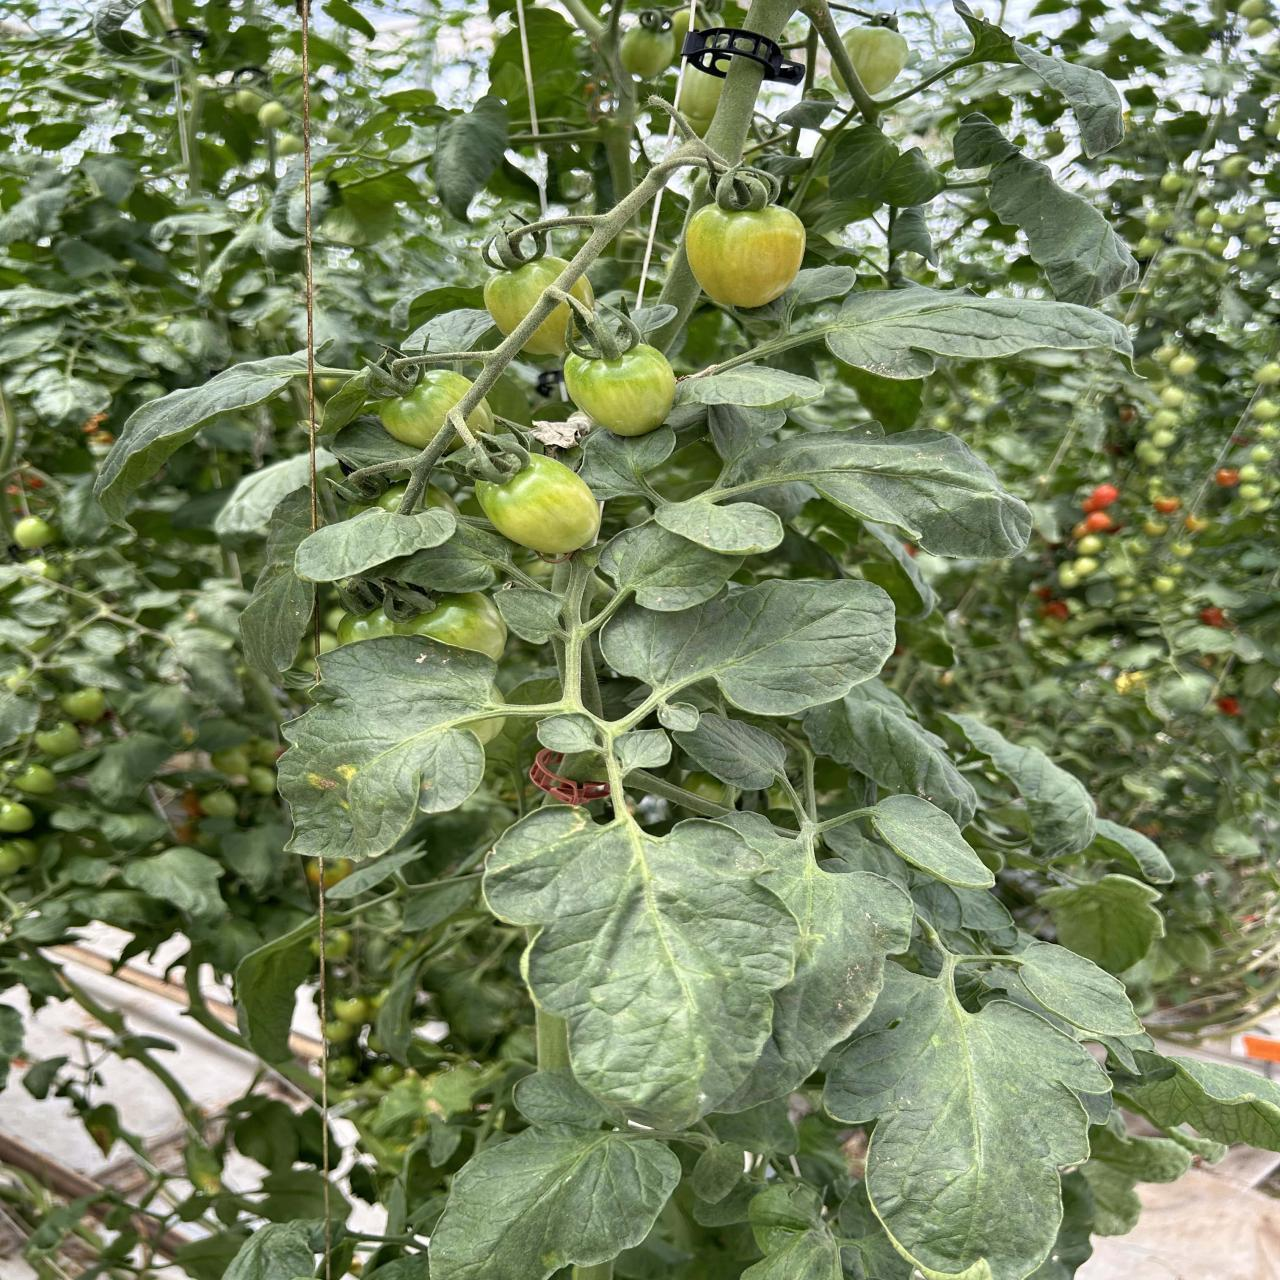Rugose leaf: (279, 636, 504, 858)
